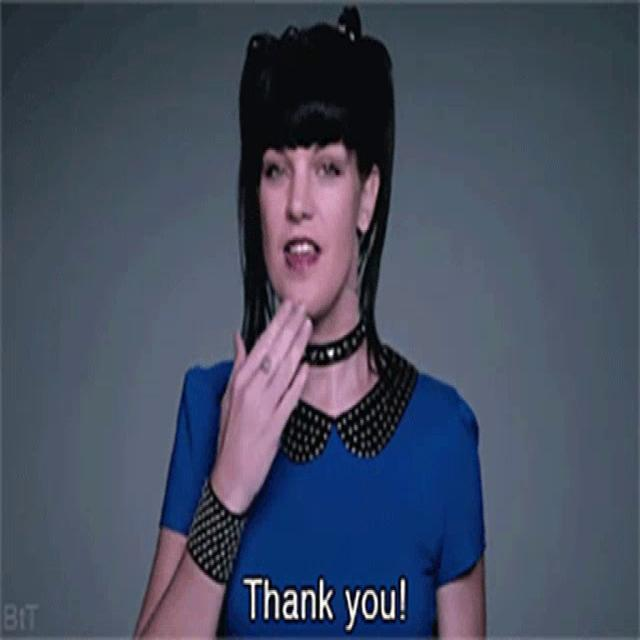thankyou: (208, 144, 388, 464)
